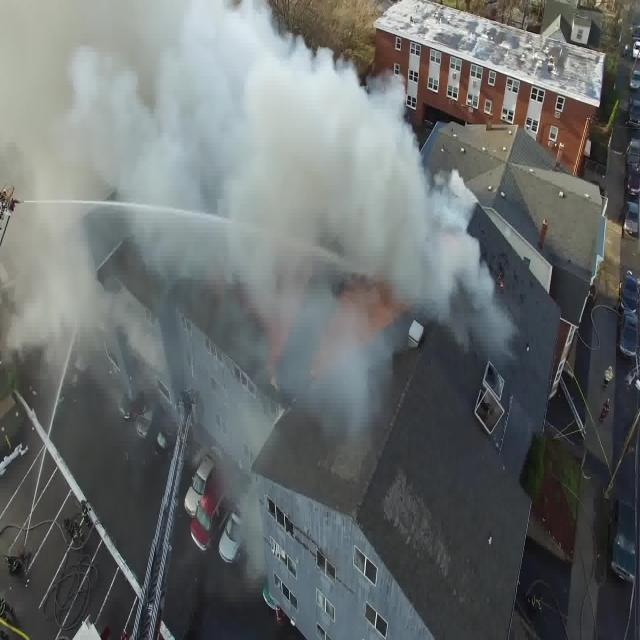Fire: (210, 245, 405, 403)
Smoke: (0, 4, 496, 444)
